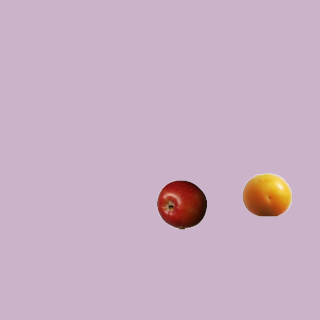Apple Braeburn: (156, 179, 206, 229)
Cherry Wax Yellow: (241, 169, 291, 219)
